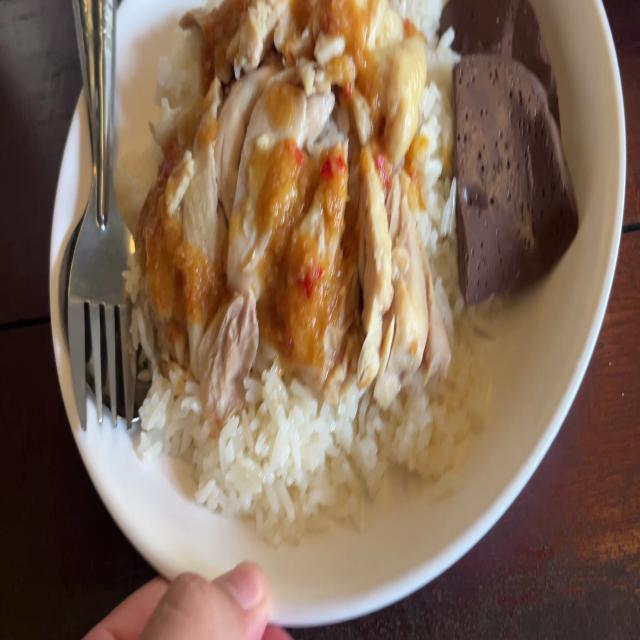chicken_rice: (150, 0, 428, 347)
noodle: (452, 0, 567, 278)
